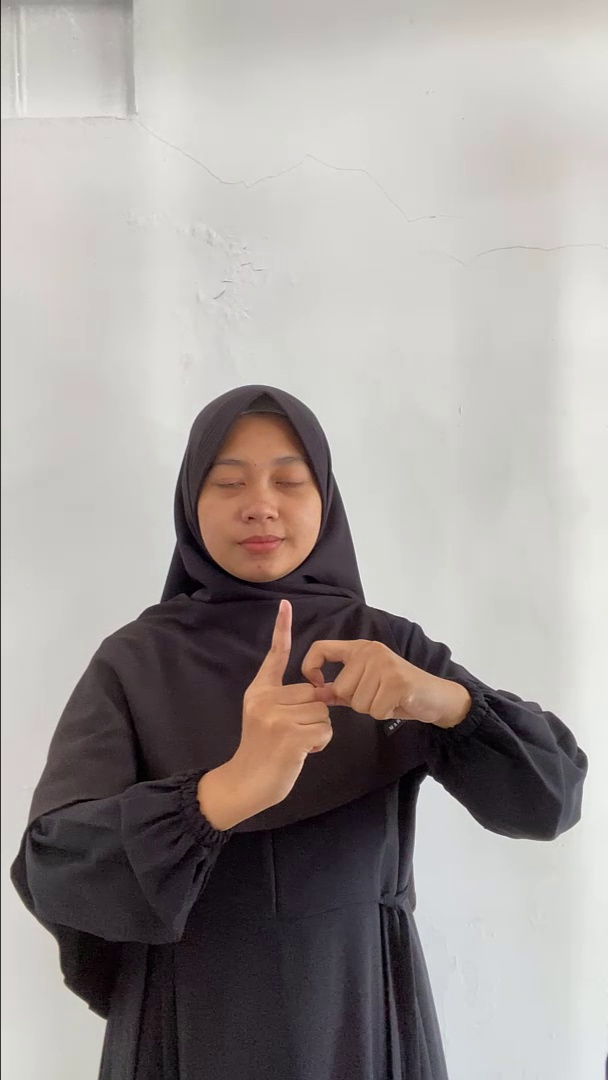KAMIS: (212, 591, 460, 835)
